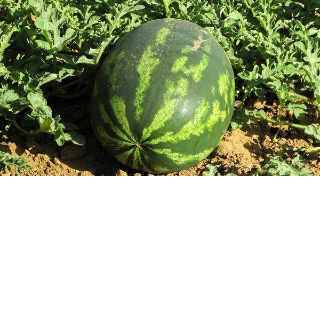dua_hau: (90, 17, 239, 174)
